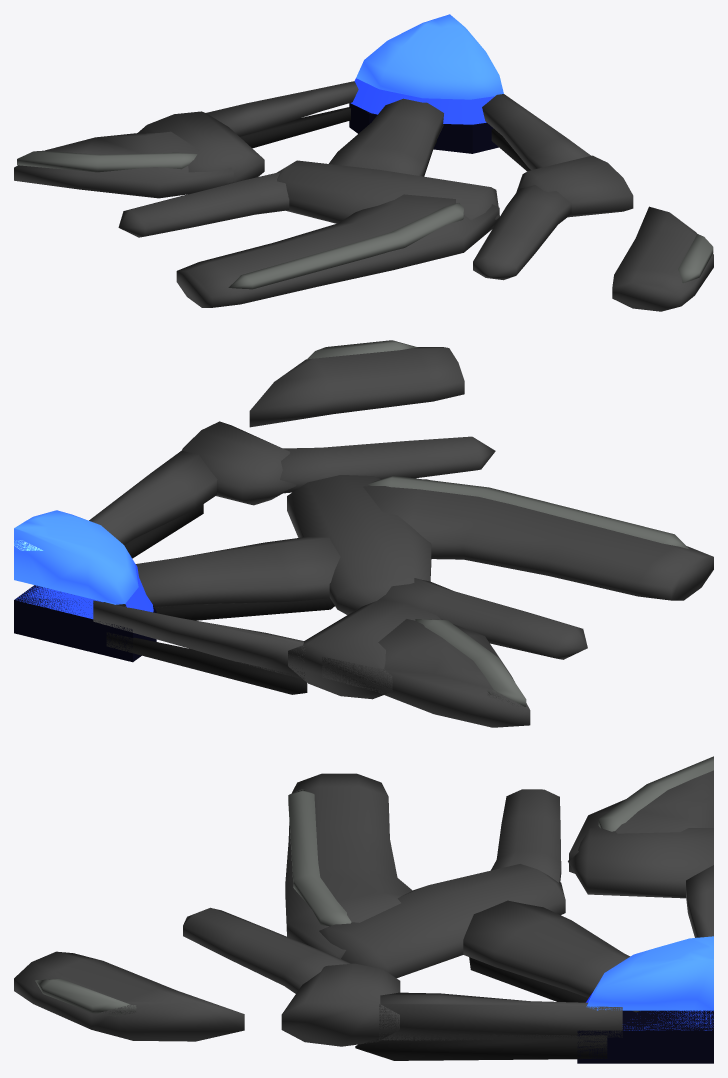
File: newsh-hash-195-f3.glb
The picture shows the model from 3 angles, top to bottom: view 1: azimuth 30°, elevation 25°; view 2: azimuth 150°, elevation 25°; view 3: azimuth 270°, elevation 25°; orthographic projection. The views are drawn at different scales.
Visible parts, largest first — view 1: newsh-hash-195-f3; view 2: newsh-hash-195-f3; view 3: newsh-hash-195-f3.
Boxes of the visible parts, x1,y1,x2,y2 form: newsh-hash-195-f3: (14,14,713,311); newsh-hash-195-f3: (14,340,713,727); newsh-hash-195-f3: (14,756,713,1063).
Size of the model in its own units: 1.62 by 0.3156 by 1.91.
